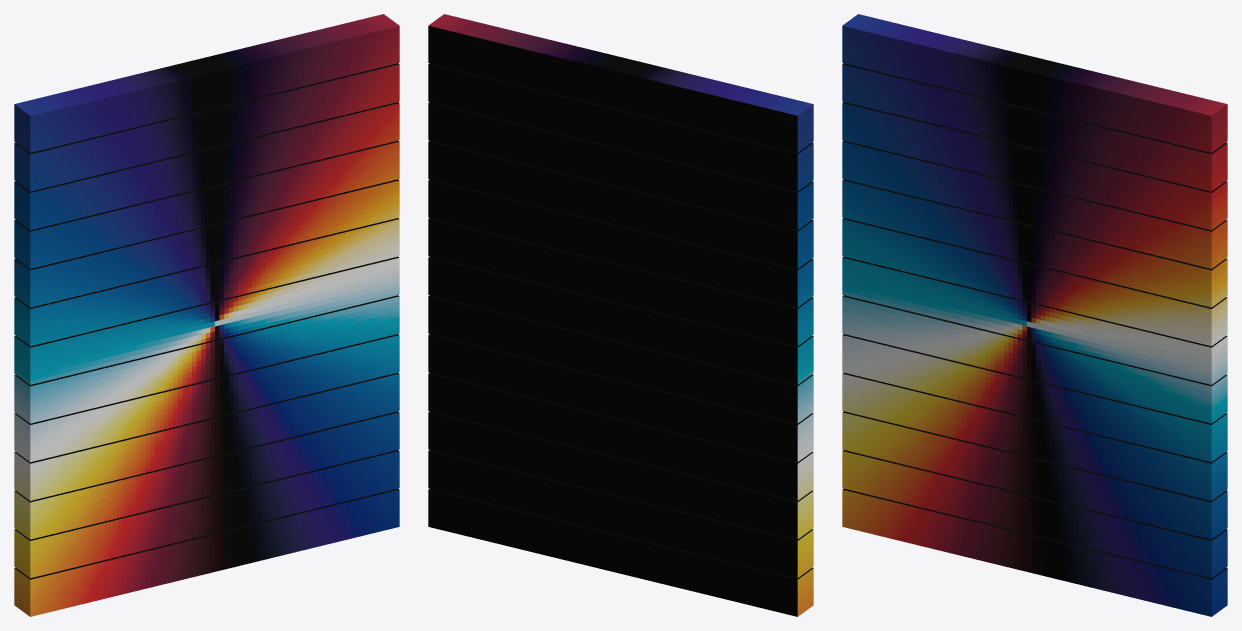
File: CDM7.glb
3 views of the same model, side by side, from view 1: azimuth 30°, elevation 25°; view 2: azimuth 150°, elevation 25°; view 3: azimuth 330°, elevation 25° (orthographic).
Parts seen in each view (by area): view 1: CUBO1, CUBO8, CUBO3, CUBO11, CUBO12, CUBO2, CUBO5, CUBO6, CUBO9, CUBO7, CUBO13, CUBO4 (+1 smaller); view 2: CUBO1, CUBO8, CUBO3, CUBO11, CUBO12, CUBO2, CUBO5, CUBO6, CUBO9, CUBO7, CUBO13, CUBO4 (+1 smaller); view 3: CUBO1, CUBO8, CUBO3, CUBO11, CUBO12, CUBO2, CUBO5, CUBO6, CUBO9, CUBO7, CUBO13, CUBO4 (+1 smaller).
Boxes of the visible parts, x1=… form: CUBO1: x1=14, y1=14, x2=399, y2=152; CUBO8: x1=14, y1=295, x2=399, y2=423; CUBO3: x1=14, y1=102, x2=399, y2=230; CUBO11: x1=14, y1=411, x2=399, y2=539; CUBO12: x1=14, y1=450, x2=399, y2=578; CUBO2: x1=14, y1=63, x2=399, y2=191; CUBO5: x1=14, y1=179, x2=399, y2=307; CUBO6: x1=14, y1=218, x2=399, y2=346; CUBO9: x1=14, y1=334, x2=399, y2=462; CUBO7: x1=14, y1=256, x2=399, y2=384; CUBO13: x1=14, y1=488, x2=399, y2=616; CUBO4: x1=14, y1=140, x2=399, y2=268; CUBO1: x1=428, y1=14, x2=813, y2=152; CUBO8: x1=428, y1=295, x2=813, y2=423; CUBO3: x1=428, y1=102, x2=813, y2=230; CUBO11: x1=428, y1=411, x2=813, y2=539; CUBO12: x1=428, y1=450, x2=813, y2=578; CUBO2: x1=428, y1=63, x2=813, y2=191; CUBO5: x1=428, y1=179, x2=813, y2=307; CUBO6: x1=428, y1=218, x2=813, y2=346; CUBO9: x1=428, y1=334, x2=813, y2=462; CUBO7: x1=428, y1=256, x2=813, y2=384; CUBO13: x1=428, y1=488, x2=813, y2=616; CUBO4: x1=428, y1=140, x2=813, y2=268; CUBO1: x1=842, y1=14, x2=1227, y2=152; CUBO8: x1=842, y1=295, x2=1227, y2=423; CUBO3: x1=842, y1=102, x2=1227, y2=230; CUBO11: x1=842, y1=411, x2=1227, y2=539; CUBO12: x1=842, y1=450, x2=1227, y2=578; CUBO2: x1=842, y1=63, x2=1227, y2=191; CUBO5: x1=842, y1=179, x2=1227, y2=307; CUBO6: x1=842, y1=218, x2=1227, y2=346; CUBO9: x1=842, y1=334, x2=1227, y2=462; CUBO7: x1=842, y1=256, x2=1227, y2=384; CUBO13: x1=842, y1=488, x2=1227, y2=616; CUBO4: x1=842, y1=140, x2=1227, y2=268.
Size of the model in its own units: 0.8 by 1.04 by 0.06.
Materials: 14 (13 with a texture image).
